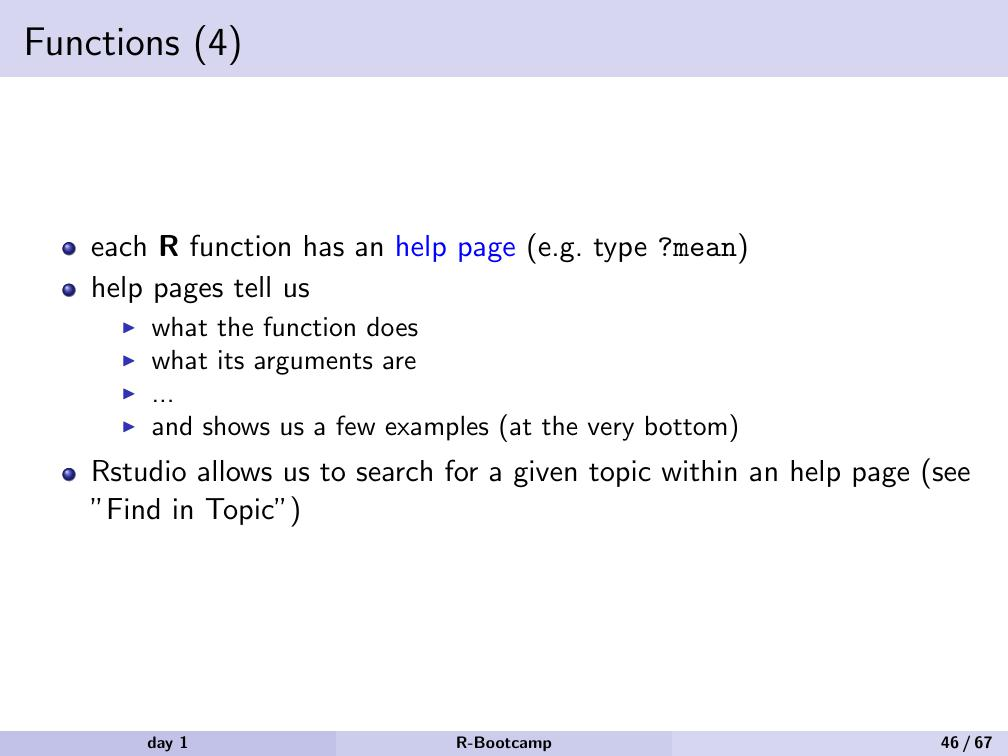Title: (19, 11, 249, 76)
